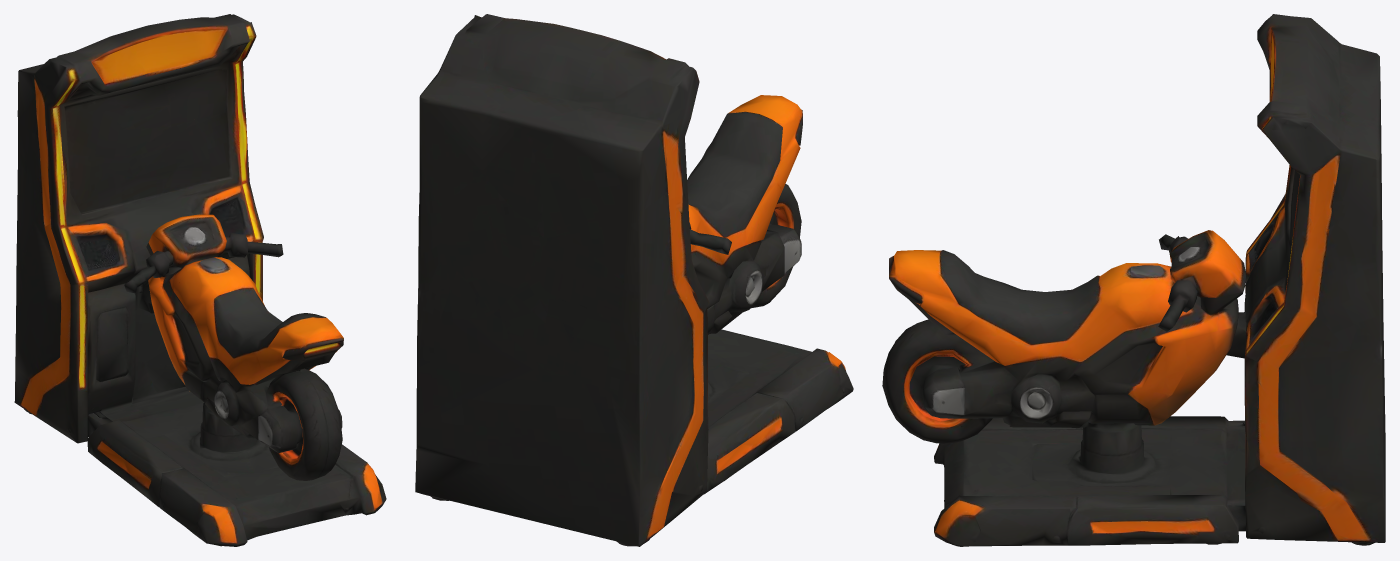
Rendered from moto.glb.
3 views of the same model, side by side, from view 1: azimuth 30°, elevation 25°; view 2: azimuth 150°, elevation 25°; view 3: azimuth 270°, elevation 25° (orthographic). The views are drawn at different scales.
Parts seen in each view (by area): view 1: tripo_node_9c8ab163-9436-4c20-a80d-5115d7b160e0; view 2: tripo_node_9c8ab163-9436-4c20-a80d-5115d7b160e0; view 3: tripo_node_9c8ab163-9436-4c20-a80d-5115d7b160e0.
Part boxes in pixels (left/top/right/bottom): tripo_node_9c8ab163-9436-4c20-a80d-5115d7b160e0: left=14, top=14, right=386, bottom=546; tripo_node_9c8ab163-9436-4c20-a80d-5115d7b160e0: left=415, top=14, right=853, bottom=546; tripo_node_9c8ab163-9436-4c20-a80d-5115d7b160e0: left=882, top=14, right=1385, bottom=546.
Bounding box in the file's own units: 0.5002 × 0.9601 × 0.9802.
1 material, 1 textured.
